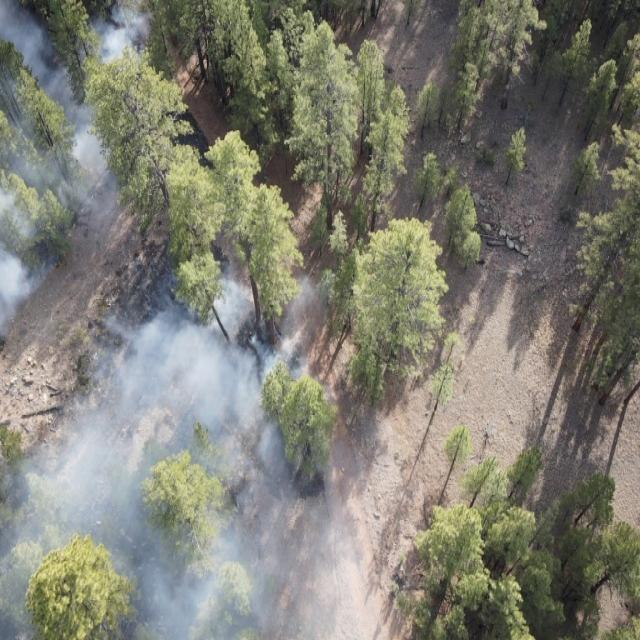fire: (246, 325, 256, 339)
smoke: (0, 259, 372, 640), (0, 0, 161, 340)
